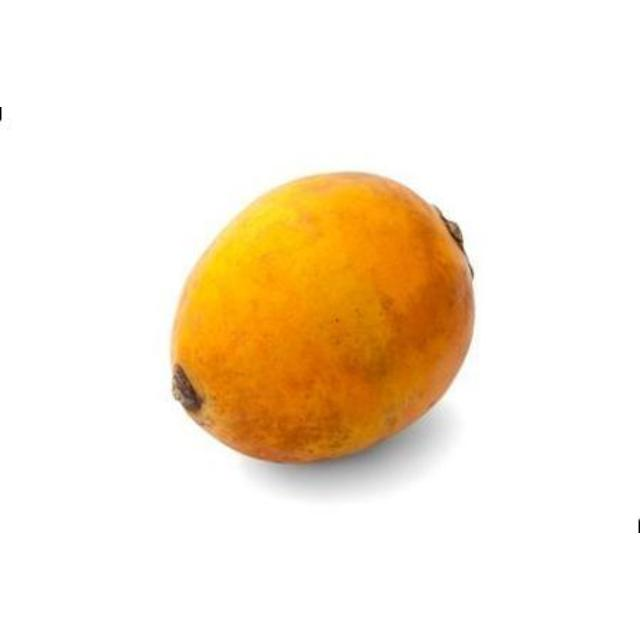good: (169, 172, 476, 465)
